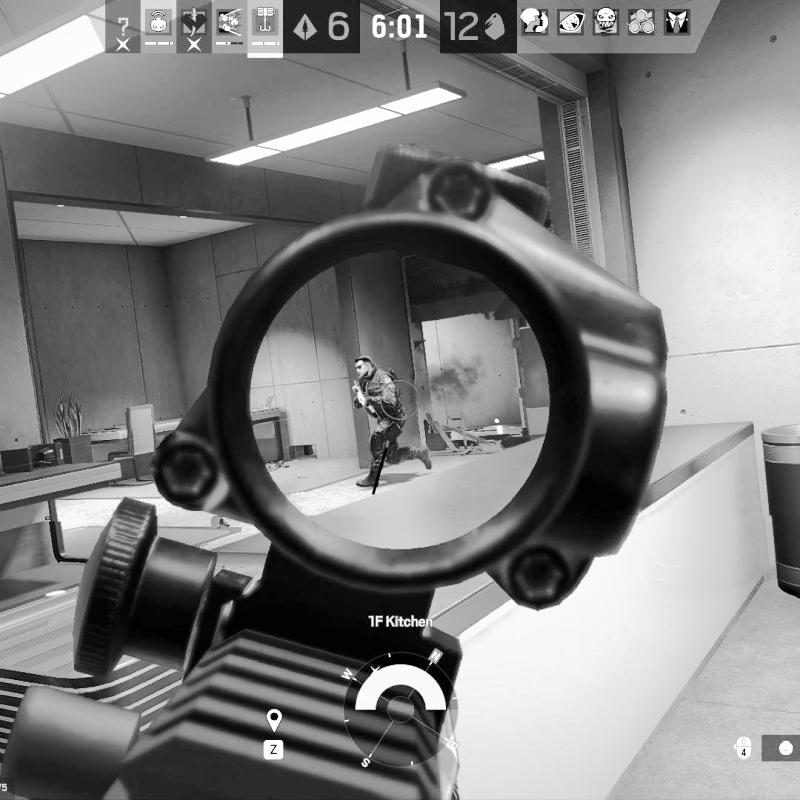Character: (350, 355, 433, 489)
Head: (354, 354, 376, 378)
